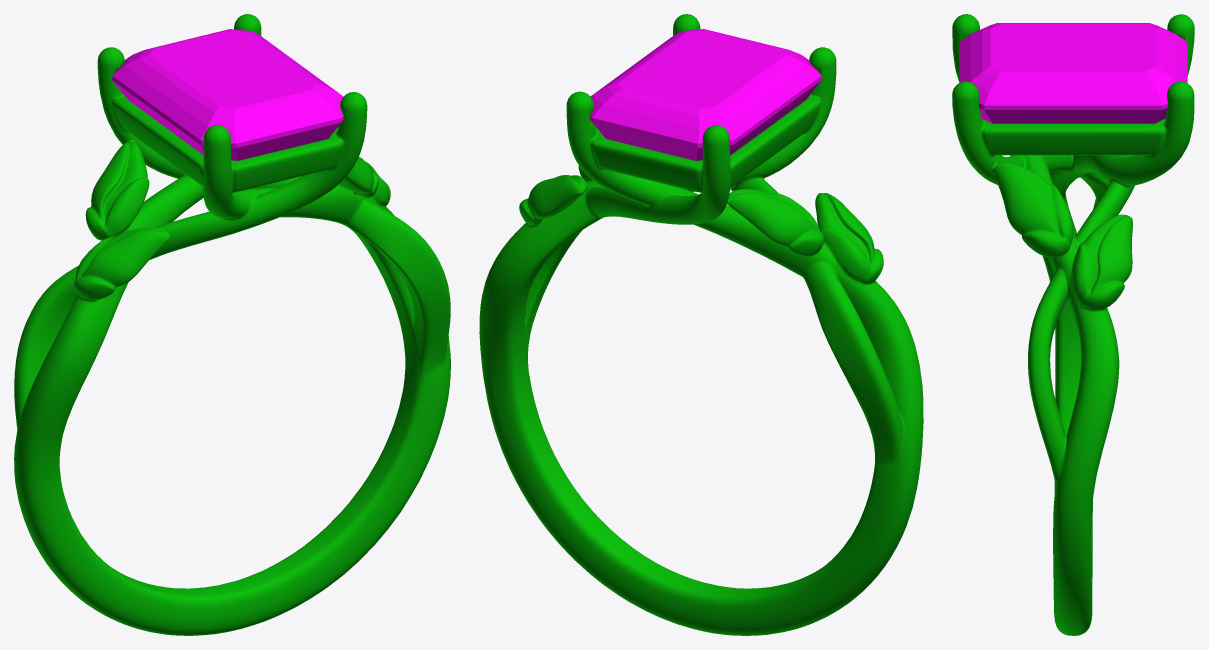
Rendered from BE113_EM_200ct_RENDER.glb.
The picture shows the model from 3 angles, left to right: view 1: azimuth 30°, elevation 25°; view 2: azimuth 150°, elevation 25°; view 3: azimuth 270°, elevation 25°; orthographic projection.
Visible parts, largest first — view 1: Metal 01, CS_Diamond_Emerald; view 2: Metal 01, CS_Diamond_Emerald; view 3: Metal 01, CS_Diamond_Emerald.
Boxes of the visible parts, box(x1,y1,x2,y2) form: Metal 01: box(14, 14, 450, 635); CS_Diamond_Emerald: box(112, 29, 343, 160); Metal 01: box(479, 14, 923, 635); CS_Diamond_Emerald: box(590, 29, 821, 160); Metal 01: box(952, 14, 1194, 635); CS_Diamond_Emerald: box(959, 23, 1187, 123).
Bounding box in the file's own units: 19.88 × 24.58 × 9.57.
